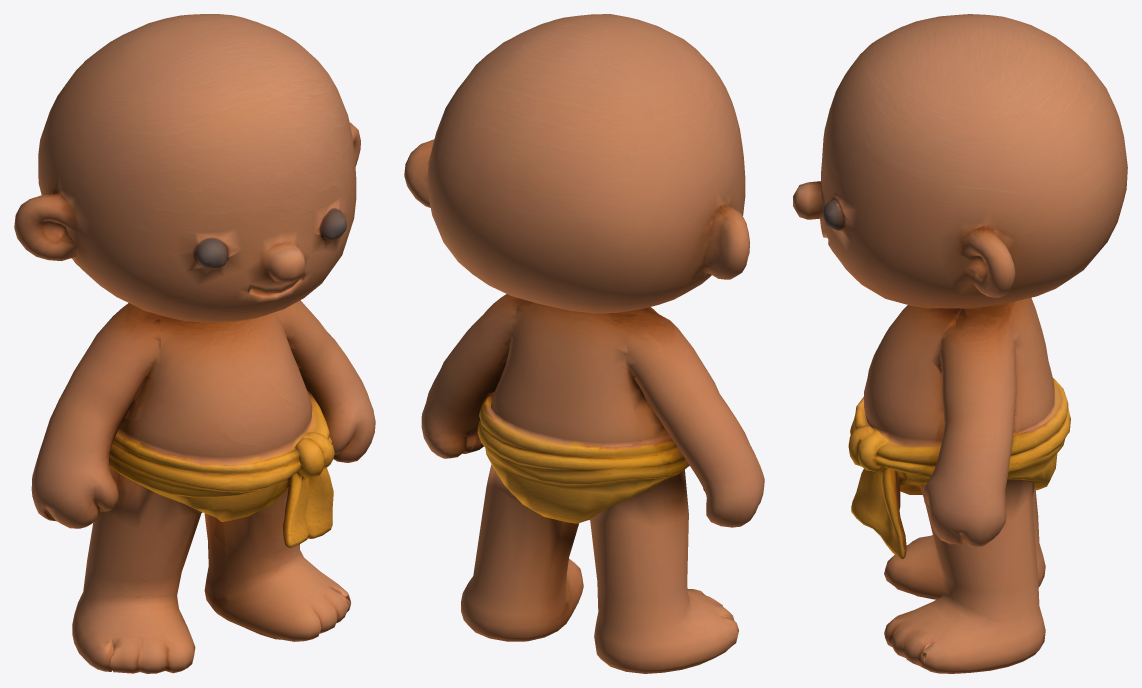
The model's file is resident_hunyuan_lowpoly_textured.glb.
3 views of the same model, side by side, from view 1: azimuth 30°, elevation 25°; view 2: azimuth 150°, elevation 25°; view 3: azimuth 270°, elevation 25° (orthographic). The views are drawn at different scales.
Parts seen in each view (by area): view 1: mesh_rep_0_ori_repair_quad; view 2: mesh_rep_0_ori_repair_quad; view 3: mesh_rep_0_ori_repair_quad.
Boxes of the visible parts, <box> form: mesh_rep_0_ori_repair_quad: <box>14,14,375,673</box>; mesh_rep_0_ori_repair_quad: <box>404,14,764,673</box>; mesh_rep_0_ori_repair_quad: <box>793,14,1127,673</box>.
Bounding box in the file's own units: 0.5977 × 1 × 0.5176.
Materials: 1 (1 with a texture image).
